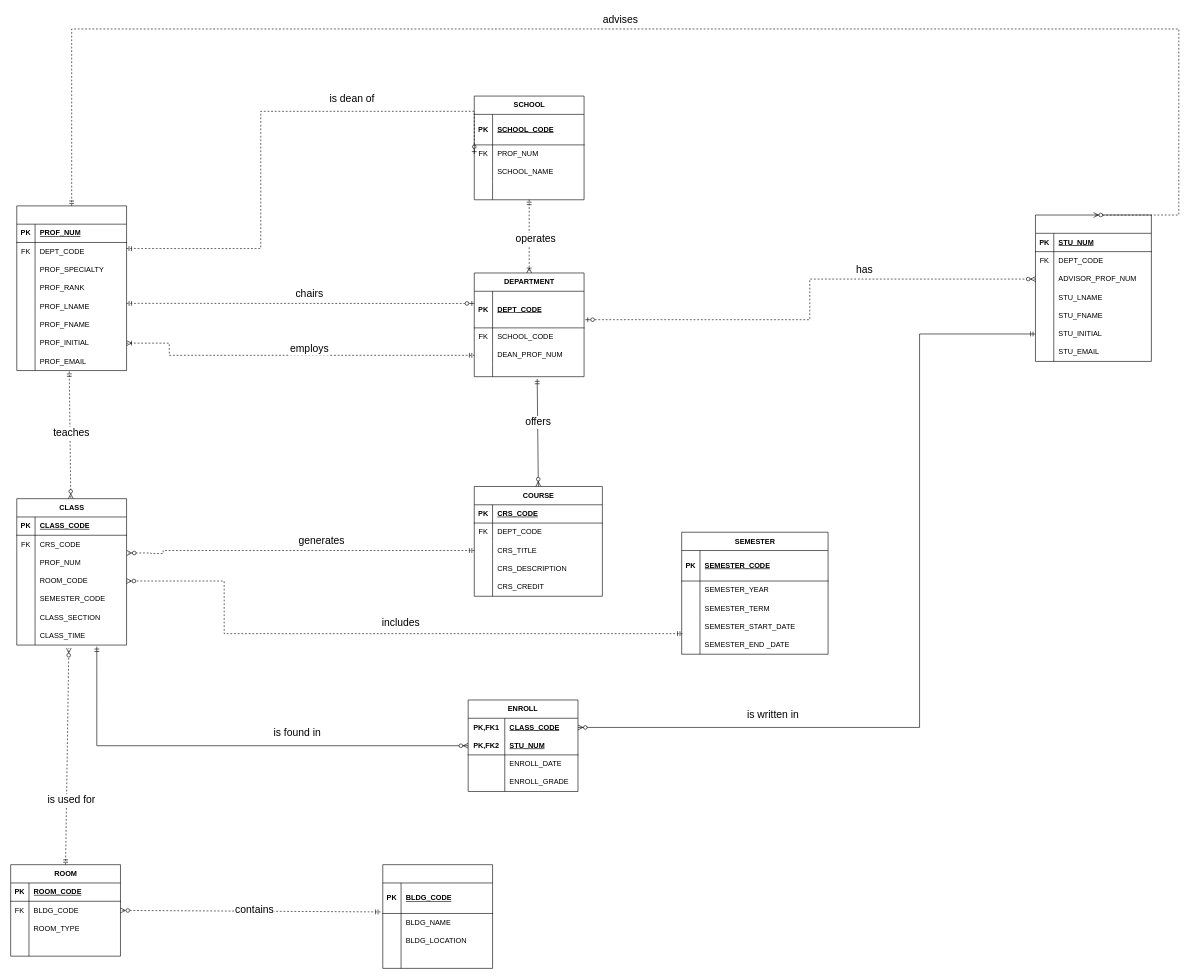
The diagram is 1195 pixels wide and 979 high, and some of its shapes have lost their labels. The shapes that lost their labels are listed below. From the top down, each one's box as (x1, y1, x2, y2) in pixels, then its label:
(16, 205, 127, 371): PROFESSOR
(1035, 214, 1151, 361): STUDENT
(382, 864, 493, 968): BUILDING
